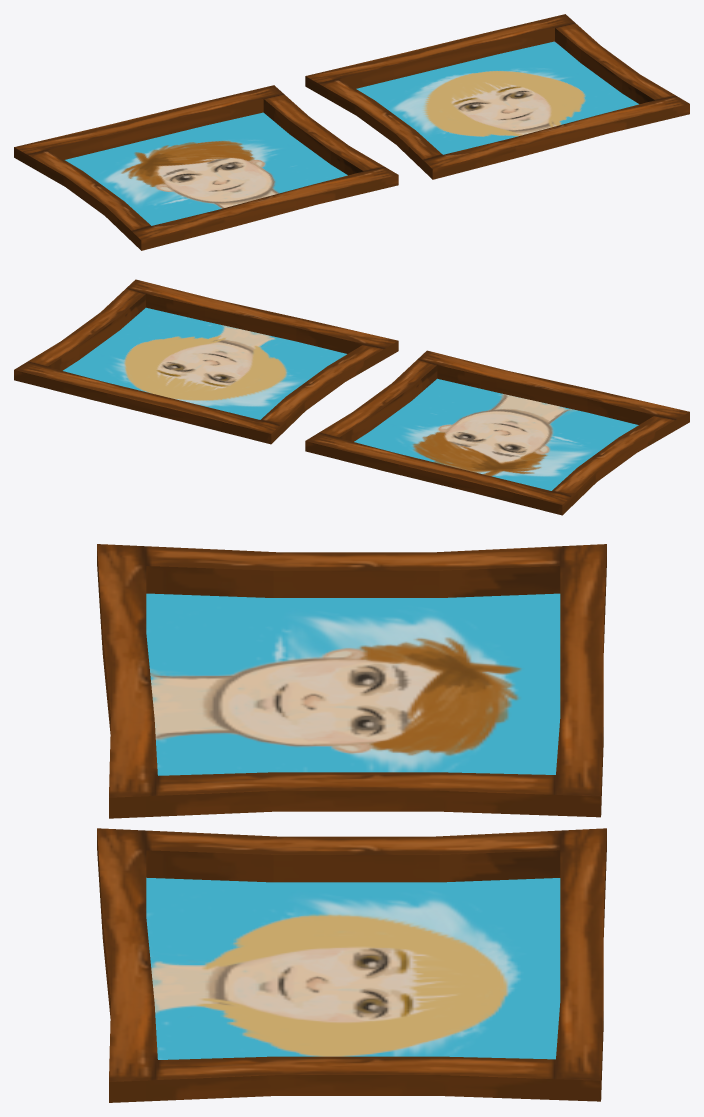
Rendered from new_frames.FBX.
3 views of the same model, one above another, from view 1: azimuth 30°, elevation 25°; view 2: azimuth 150°, elevation 25°; view 3: azimuth 270°, elevation 25° (orthographic). The views are drawn at different scales.
Parts seen in each view (by area): view 1: object 1, 001; view 2: 001, object 1; view 3: 001, object 1.
Boxes of the visible parts, left/top/right/bottom form: object 1: left=14, top=85, right=398, bottom=250; 001: left=305, top=14, right=689, bottom=179; 001: left=14, top=279, right=398, bottom=444; object 1: left=305, top=350, right=689, bottom=515; 001: left=97, top=828, right=606, bottom=1102; object 1: left=97, top=544, right=606, bottom=818.
Bounding box in the file's own units: 103 × 2.45 × 41.2.
